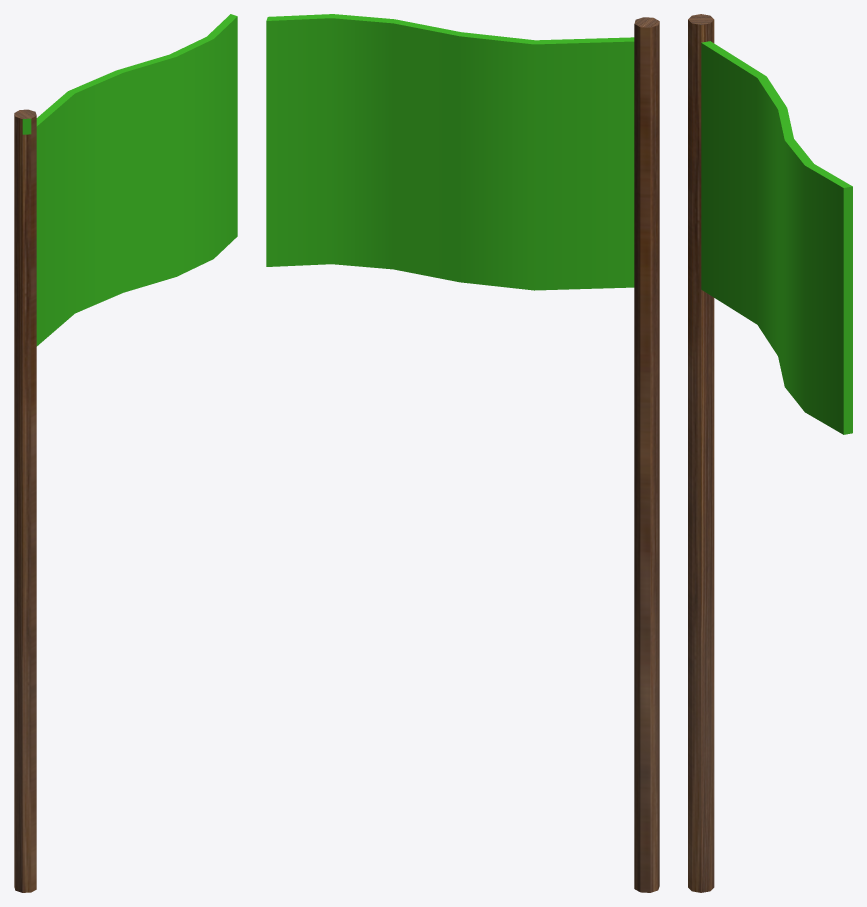
File: flagObjective.fbx
3 views of the same model, side by side, from view 1: azimuth 30°, elevation 25°; view 2: azimuth 150°, elevation 25°; view 3: azimuth 270°, elevation 25° (orthographic). The views are drawn at different scales.
Visible parts, largest first — view 1: objectiveFlag; view 2: objectiveFlag; view 3: objectiveFlag.
Part boxes in pixels (bbox=[...]): objectiveFlag: bbox=[14, 14, 237, 892]; objectiveFlag: bbox=[266, 14, 659, 892]; objectiveFlag: bbox=[688, 14, 852, 892].
Bounding box in the file's own units: 5.66 × 14.64 × 2.52.
